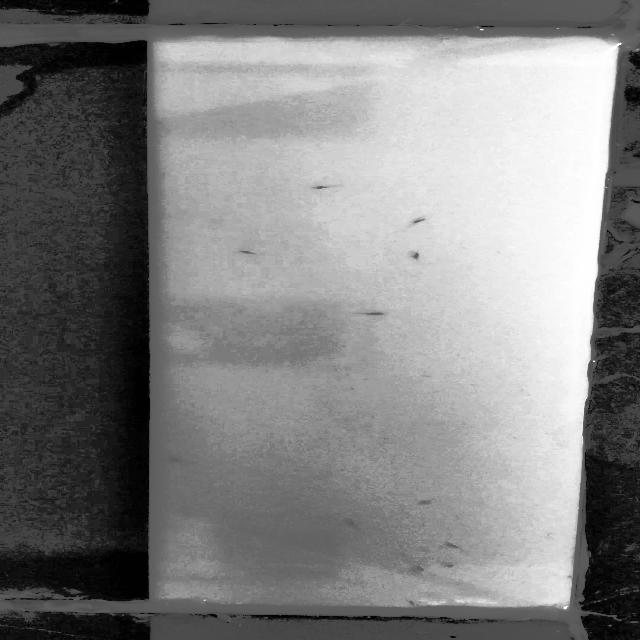shrimp: (331, 510, 370, 530), (398, 494, 444, 510), (402, 210, 436, 229), (349, 308, 398, 320), (228, 245, 270, 259), (405, 245, 428, 264), (401, 594, 436, 606), (308, 182, 351, 191), (440, 538, 468, 550), (161, 452, 189, 463), (442, 560, 458, 572), (409, 564, 430, 573)
